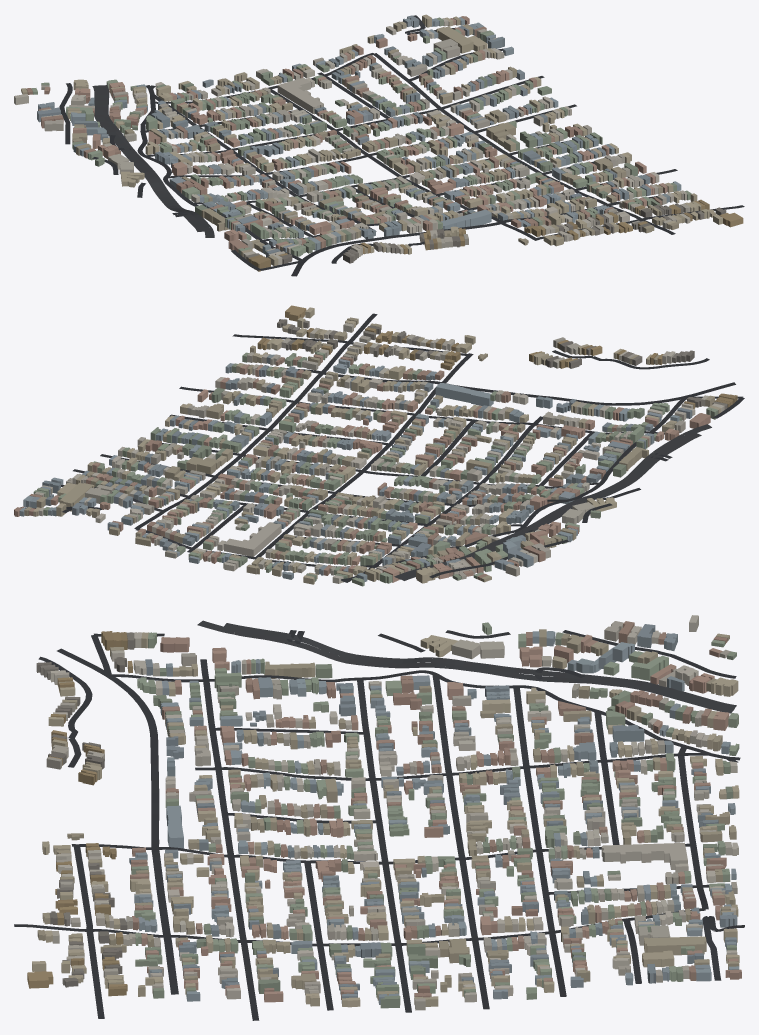
File: tile_9_16.glb
The picture shows the model from 3 angles, top to bottom: view 1: azimuth 30°, elevation 25°; view 2: azimuth 150°, elevation 25°; view 3: azimuth 270°, elevation 25°; orthographic projection. The views are drawn at different scales.
Parts seen in each view (by area): view 1: bld_9_16, road_9_16; view 2: bld_9_16, road_9_16; view 3: bld_9_16, road_9_16.
Boxes of the visible parts, box(x1,y1,x2,y2) form: bld_9_16: box(14, 14, 743, 271); road_9_16: box(59, 15, 744, 276); bld_9_16: box(14, 305, 737, 586); road_9_16: box(20, 313, 744, 582); bld_9_16: box(27, 615, 741, 1010); road_9_16: box(14, 620, 744, 1020).
Bounding box in the file's own units: 868 × 128 × 839.
